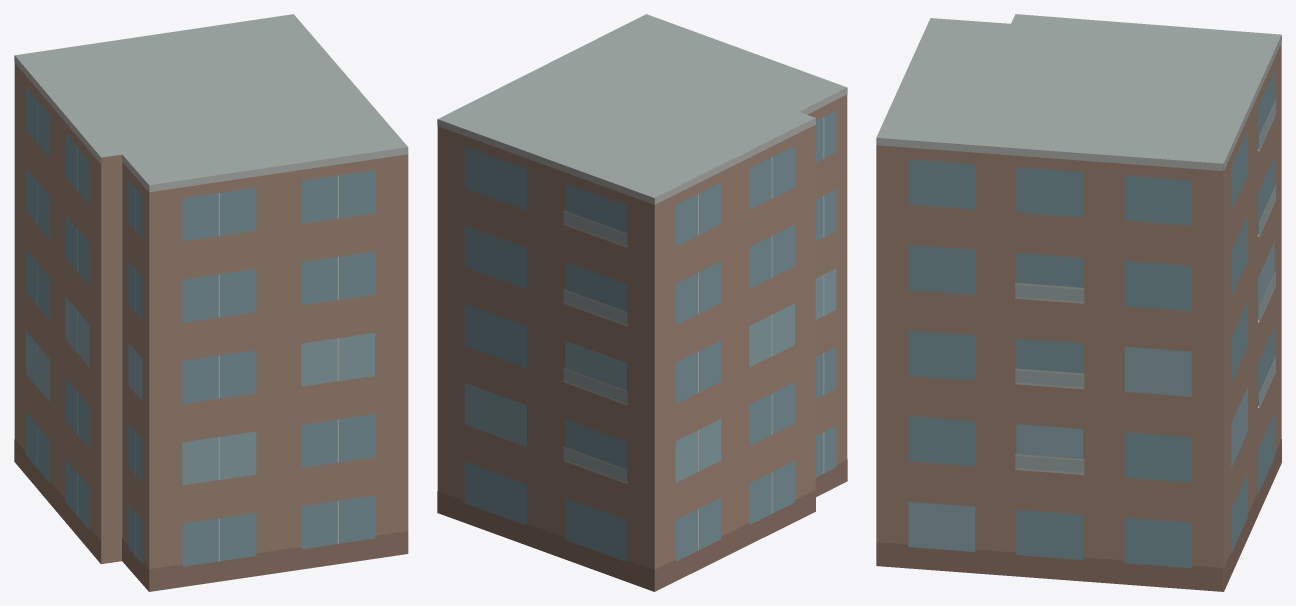
The model's file is survey-upis-32925239.glb.
3 renders of one model, left to right at view 1: azimuth 30°, elevation 25°; view 2: azimuth 150°, elevation 25°; view 3: azimuth 270°, elevation 25°, orthographic. The views are drawn at different scales.
Visible parts, largest first — view 1: survey-upis-32925239.tmp; view 2: survey-upis-32925239.tmp; view 3: survey-upis-32925239.tmp.
Boxes of the visible parts, <box> form: survey-upis-32925239.tmp: <box>14,14,408,591</box>; survey-upis-32925239.tmp: <box>437,14,847,591</box>; survey-upis-32925239.tmp: <box>876,14,1281,591</box>.
Size of the model in its own units: 10.59 by 14.1 by 12.12.
